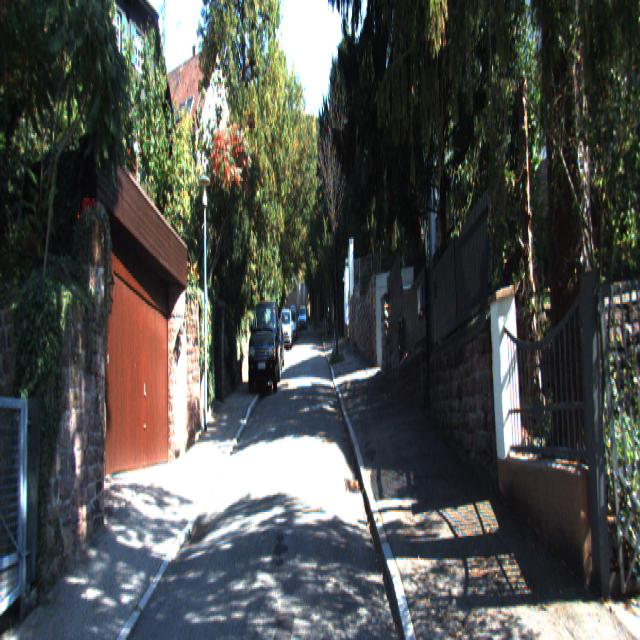Car: (247, 296, 281, 398), (280, 308, 294, 351)
DontCare: (298, 304, 307, 329)
